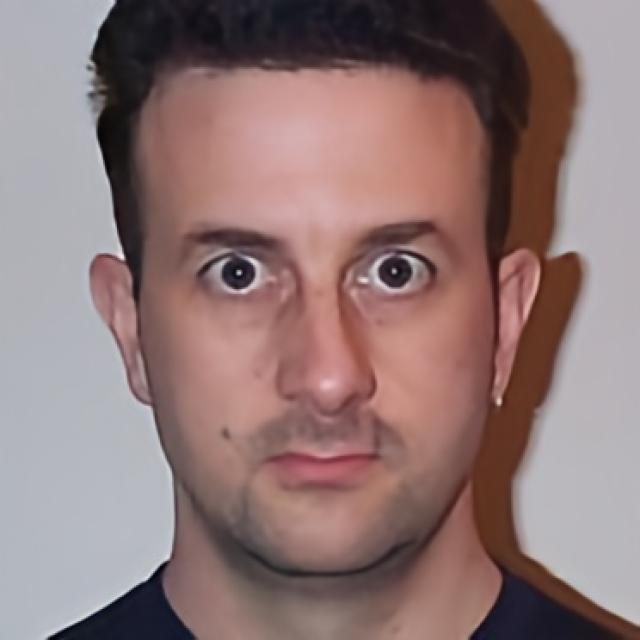Fear: (141, 53, 495, 576)
